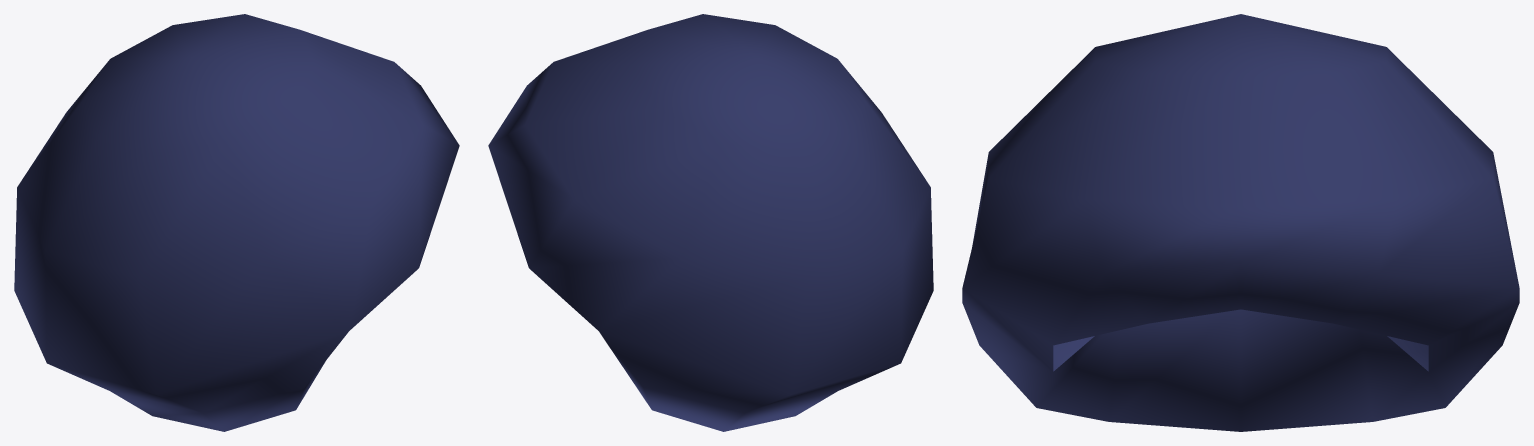
The model's file is TherapyAttachmentHead05.fbx.
3 renders of one model, left to right at view 1: azimuth 30°, elevation 25°; view 2: azimuth 150°, elevation 25°; view 3: azimuth 270°, elevation 25°, orthographic. The views are drawn at different scales.
Visible parts, largest first — view 1: pSphere6; view 2: pSphere6; view 3: pSphere6.
Boxes of the visible parts, x1=… form: pSphere6: x1=14, y1=14, x2=459, y2=431; pSphere6: x1=488, y1=14, x2=933, y2=431; pSphere6: x1=962, y1=14, x2=1519, y2=431.
Size of the model in its own units: 144 by 128 by 146.
